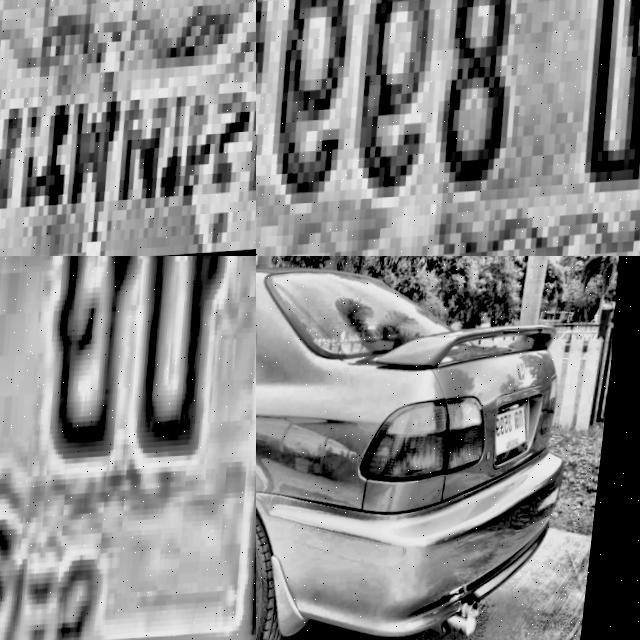license-plate: (256, 0, 640, 256), (0, 256, 256, 640), (0, 0, 256, 256), (492, 401, 542, 472)
